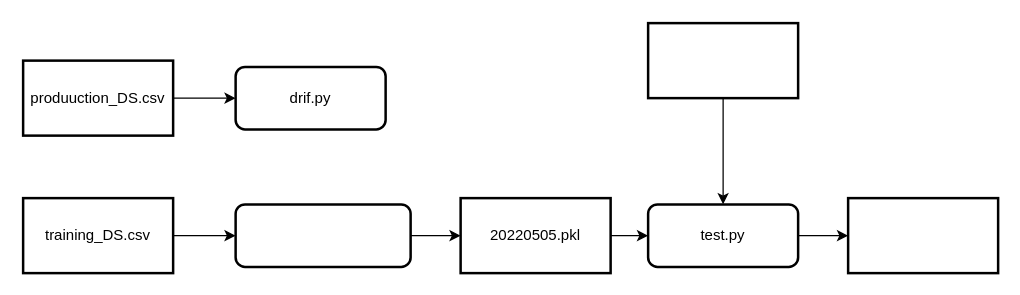
This 1020x295 diagram has some shape labels left out. The shapes that lost their labels are listed below. From the top down, each one's centre as x and y in pixels, then its label:
point 722,60: validation_DS.csv
point 322,235: run.py
point 922,235: model_eval.csv
